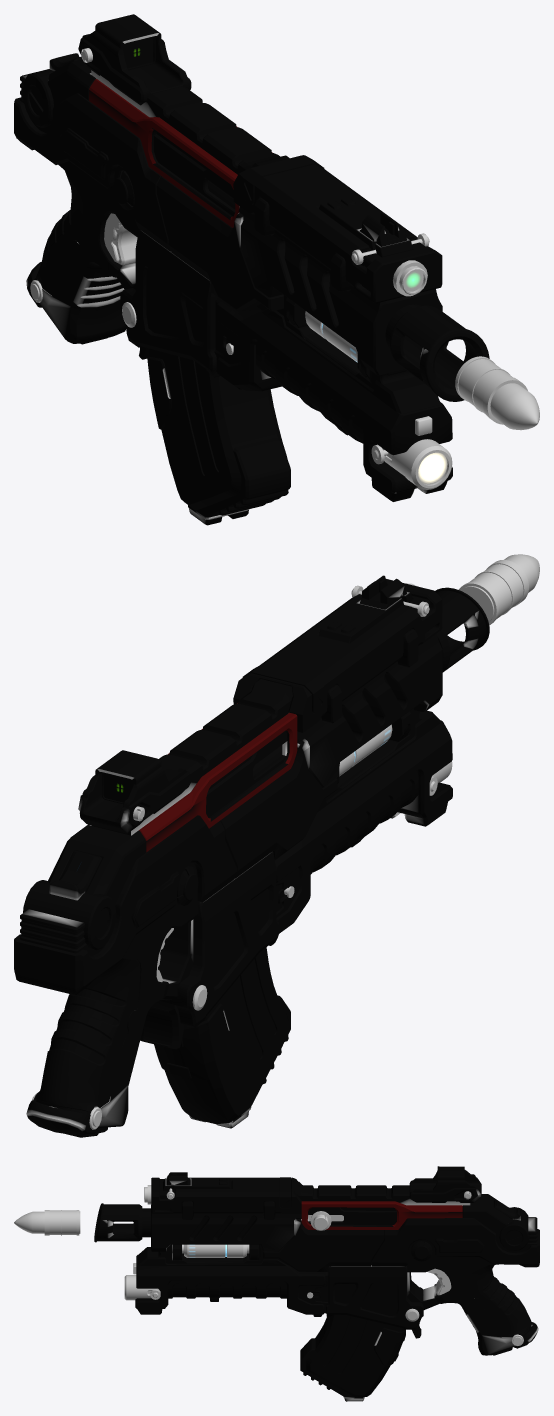
File: uploads_files_4859944_W40K_BOLTER.fbx
3 renders of one model, top to bottom at view 1: azimuth 30°, elevation 25°; view 2: azimuth 150°, elevation 25°; view 3: azimuth 270°, elevation 25°, orthographic. The views are drawn at different scales.
Parts seen in each view (by area): view 1: BOLTER, MAG, SHELL_2.5, TRIGGER.002, REACTOR; view 2: BOLTER, MAG, SHELL_2.5, MAG_DROP, REACTOR; view 3: BOLTER, MAG, SHELL_2.5, REACTOR, SLIDER, TRIGGER.002, PINS.
Part boxes in pixels (<box>): BOLTER: <box>14,14,489,501</box>; MAG: <box>147,348,290,525</box>; SHELL_2.5: <box>455,356,539,430</box>; TRIGGER.002: <box>104,213,137,265</box>; REACTOR: <box>305,311,357,362</box>; BOLTER: <box>14,575,489,1137</box>; MAG: <box>154,947,290,1128</box>; SHELL_2.5: <box>458,554,539,625</box>; MAG_DROP: <box>140,985,207,1049</box>; REACTOR: <box>339,724,392,776</box>; BOLTER: <box>94,1166,539,1355</box>; MAG: <box>300,1314,405,1401</box>; SHELL_2.5: <box>14,1210,80,1235</box>; REACTOR: <box>172,1244,249,1257</box>; SLIDER: <box>307,1211,343,1230</box>; TRIGGER.002: <box>427,1268,451,1295</box>; PINS: <box>172,1244,258,1260</box>.
Size of the model in its own units: 13.71 by 65.51 by 139.
